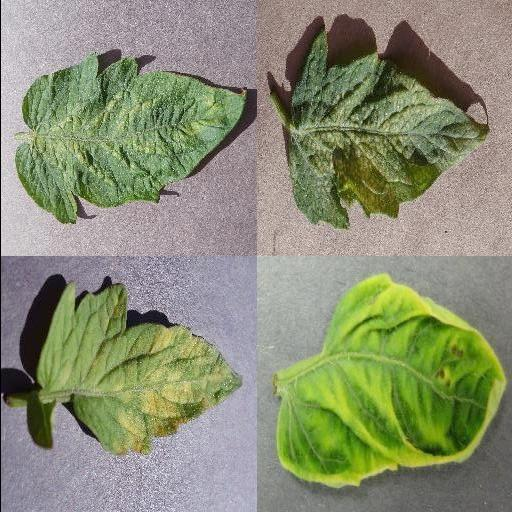Leaf Mold: (37, 282, 243, 456)
Spider Mites: (286, 30, 490, 230), (15, 53, 245, 225)
Yellow Leaf Curl Virus: (274, 272, 508, 490)
